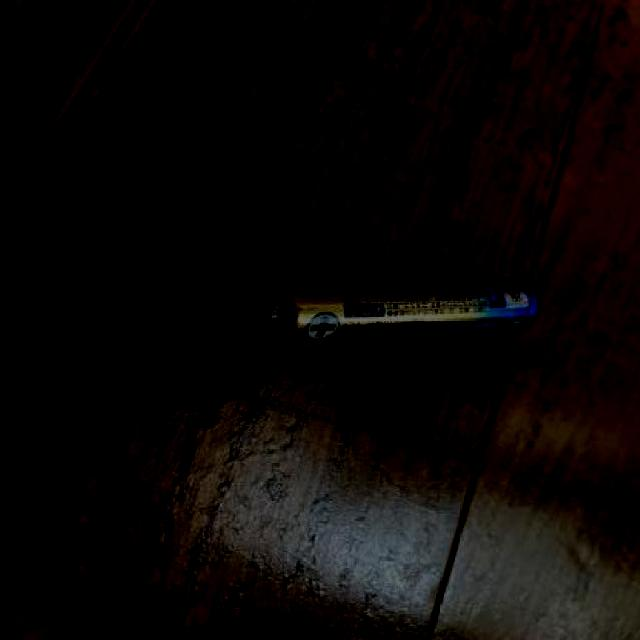AAA: (244, 272, 540, 352)
